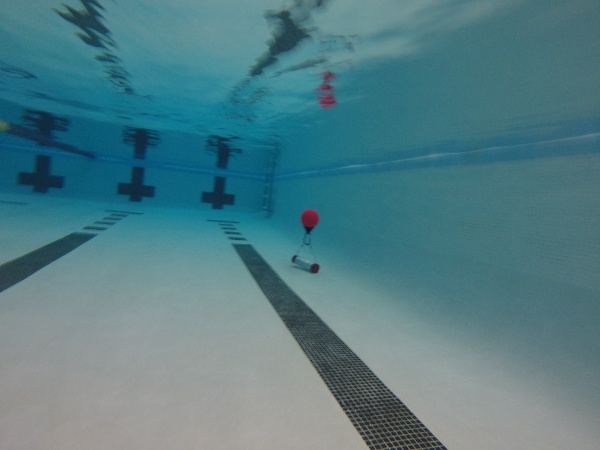buoy_red: (298, 207, 320, 236)
